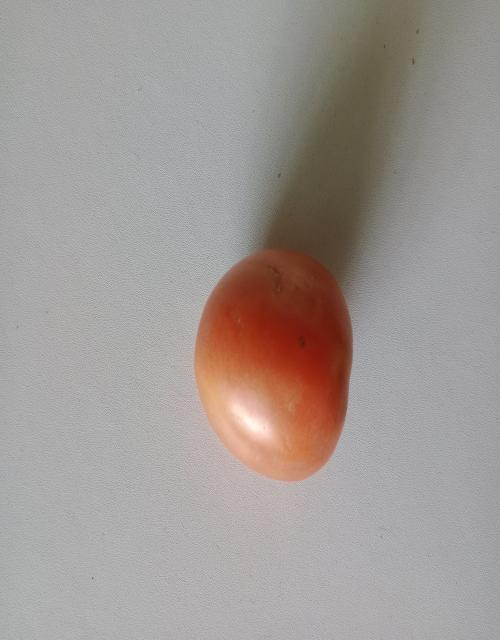Tomate: (131, 196, 412, 543)
